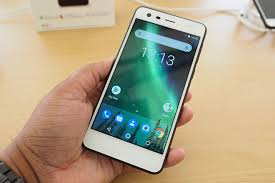nokia: (85, 6, 211, 176)
